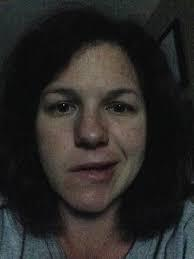strokeEyeWeak: (40, 85, 141, 123)
strokeMouthWeak: (67, 159, 125, 186)
